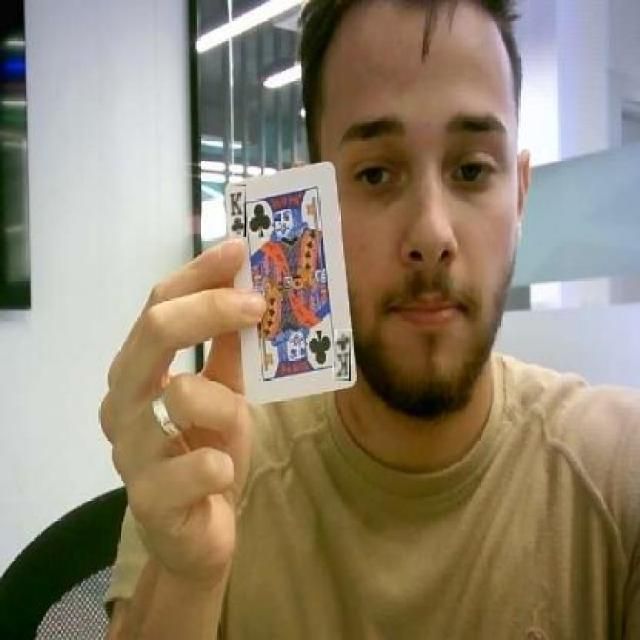KC: (334, 329, 351, 380), (231, 185, 246, 238)
